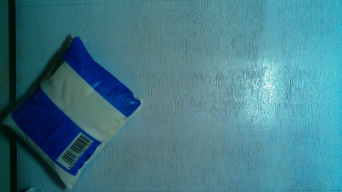m: (7, 40, 138, 179)
